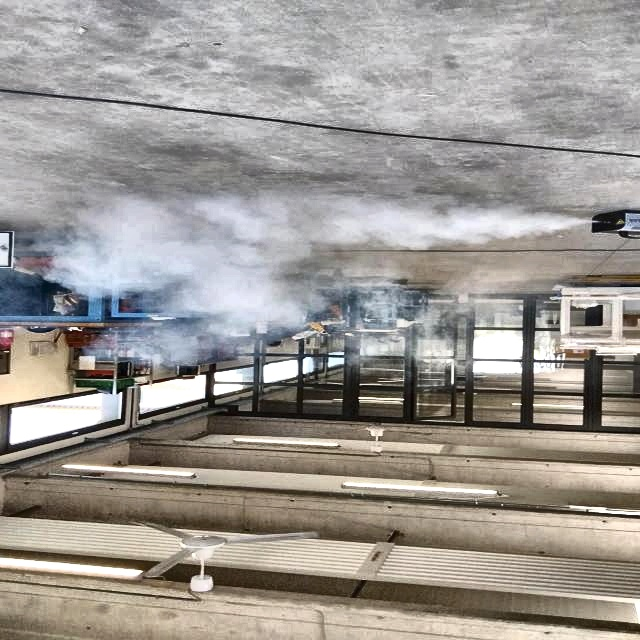smoke: (47, 165, 601, 369)
